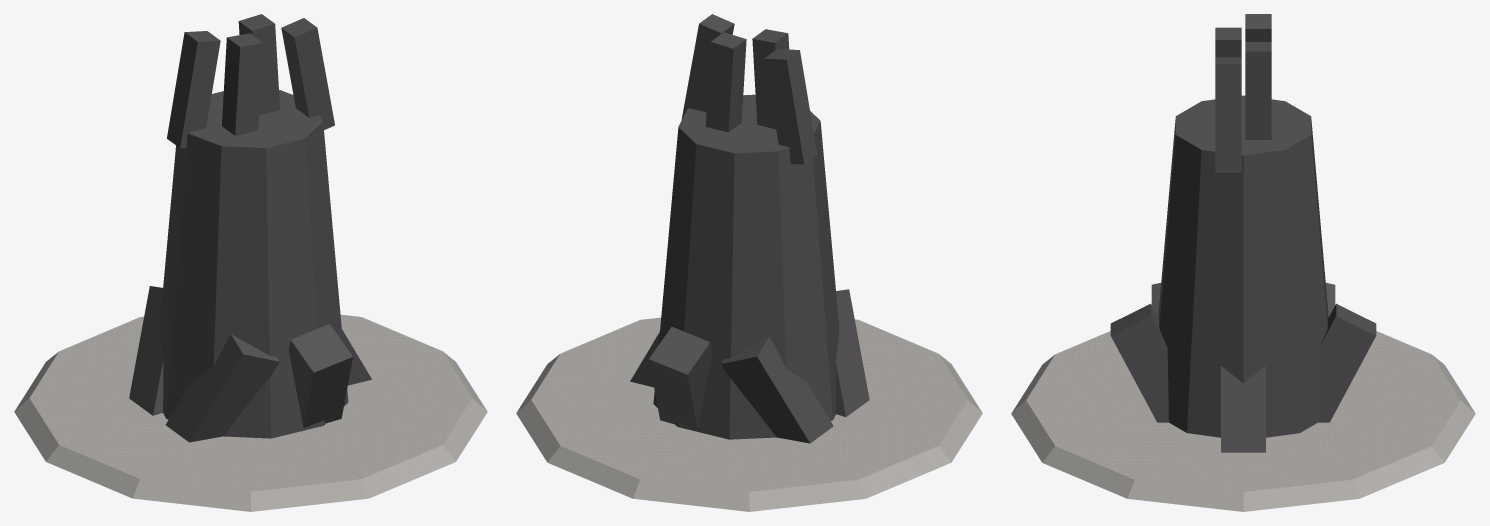
File: volcano-and-lava-fields-volcano-and-lava-fields-burnt--77cd60dc__37477.glb
The picture shows the model from 3 angles, left to right: view 1: azimuth 30°, elevation 25°; view 2: azimuth 150°, elevation 25°; view 3: azimuth 270°, elevation 25°; orthographic projection.
Visible parts, largest first — view 1: volcano-and-lava-fields-burnt-tree-stump; view 2: volcano-and-lava-fields-burnt-tree-stump; view 3: volcano-and-lava-fields-burnt-tree-stump.
Boxes of the visible parts, x1,y1,x2,y2 form: volcano-and-lava-fields-burnt-tree-stump: [14, 14, 487, 511]; volcano-and-lava-fields-burnt-tree-stump: [516, 14, 982, 511]; volcano-and-lava-fields-burnt-tree-stump: [1011, 14, 1475, 511].
Size of the model in its own units: 1.24 by 1.2 by 1.24.
Materials: 2 (1 with a texture image).
